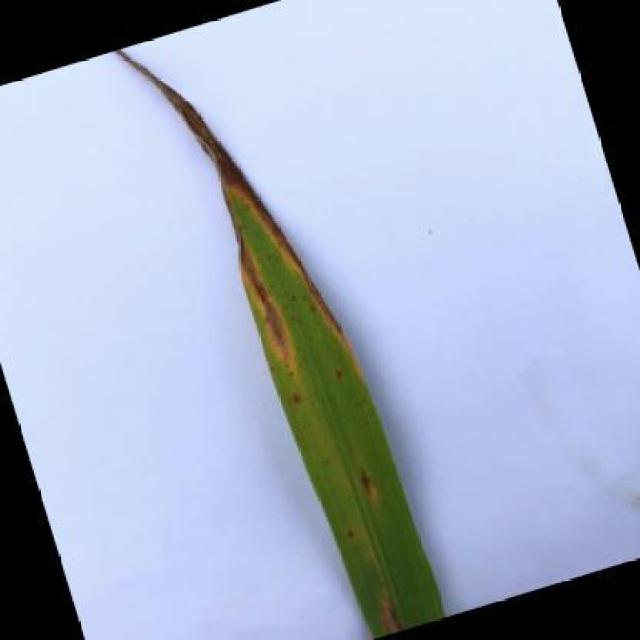Rice False Smut: (67, 3, 456, 640)
